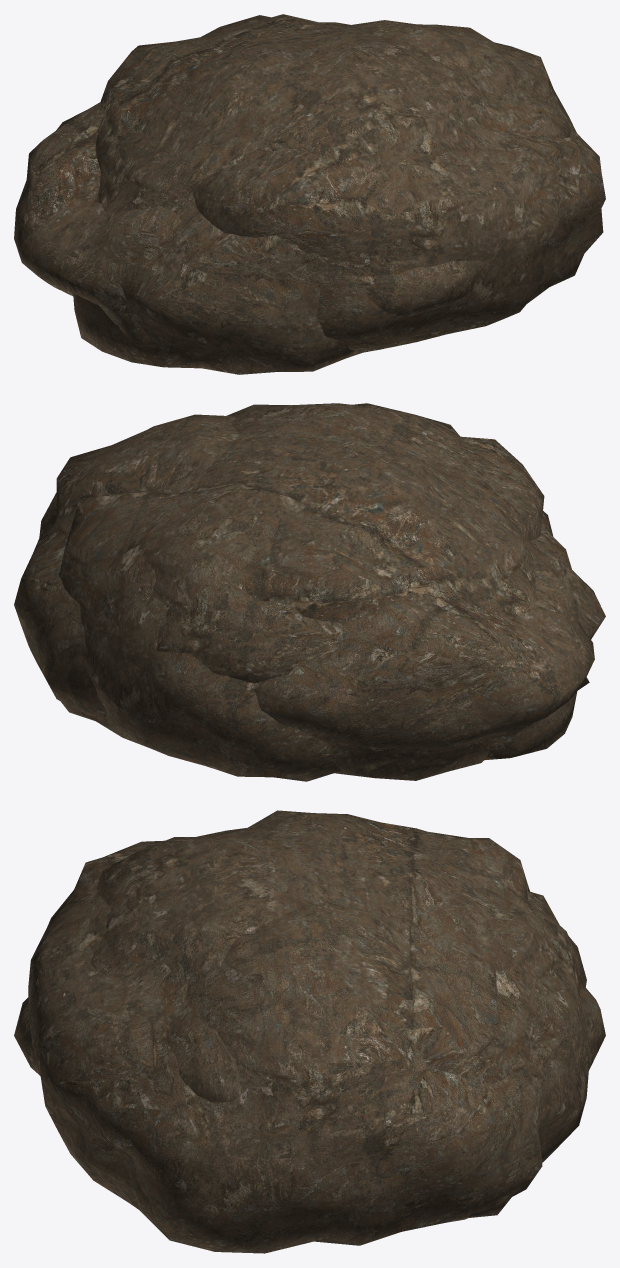
Rendered from rocks.glb.
The picture shows the model from 3 angles, top to bottom: view 1: azimuth 30°, elevation 25°; view 2: azimuth 150°, elevation 25°; view 3: azimuth 270°, elevation 25°; orthographic projection. The views are drawn at different scales.
Parts seen in each view (by area): view 1: rock0_lod0, rock1_lod0, rock2_lod0; view 2: rock0_lod0, rock2_lod0, rock1_lod0; view 3: rock1_lod0, rock0_lod0, rock2_lod0.
Boxes of the visible parts, bbox=[...] form: rock0_lod0: bbox=[73, 17, 487, 374]; rock1_lod0: bbox=[189, 14, 605, 354]; rock2_lod0: bbox=[14, 97, 570, 346]; rock0_lod0: bbox=[59, 403, 605, 781]; rock2_lod0: bbox=[254, 556, 594, 780]; rock1_lod0: bbox=[14, 414, 544, 719]; rock1_lod0: bbox=[28, 840, 586, 1253]; rock0_lod0: bbox=[91, 810, 605, 1217]; rock2_lod0: bbox=[14, 997, 360, 1167].
Size of the model in its own units: 2.57 by 1.17 by 2.19.
1 material, 1 textured.
